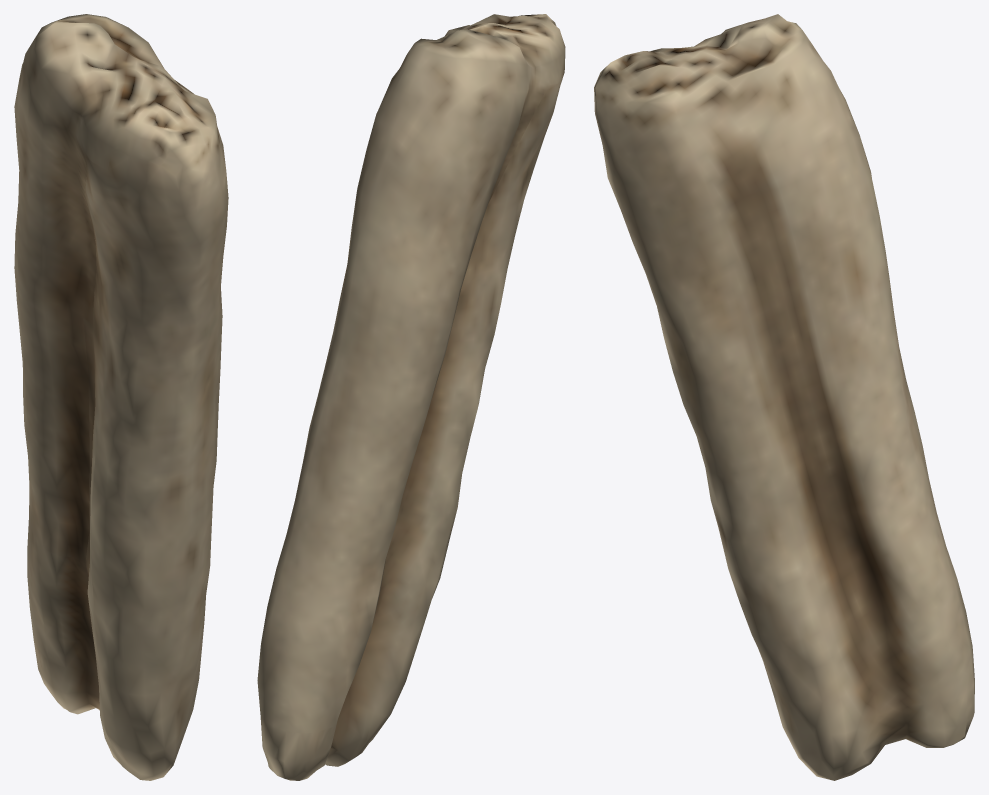
File: Mandibular_Premolar.glb
3 views of the same model, side by side, from view 1: azimuth 30°, elevation 25°; view 2: azimuth 150°, elevation 25°; view 3: azimuth 270°, elevation 25° (orthographic). The views are drawn at different scales.
Parts seen in each view (by area): view 1: Group13622_Mesh.020; view 2: Group13622_Mesh.020; view 3: Group13622_Mesh.020.
Part boxes in pixels (x1=…): Group13622_Mesh.020: x1=14, y1=14, x2=228, y2=780; Group13622_Mesh.020: x1=257, y1=14, x2=565, y2=780; Group13622_Mesh.020: x1=594, y1=14, x2=974, y2=780.
Size of the model in its own units: 0.0225 by 0.0868 by 0.0422.
Materials: 1 (1 with a texture image).
